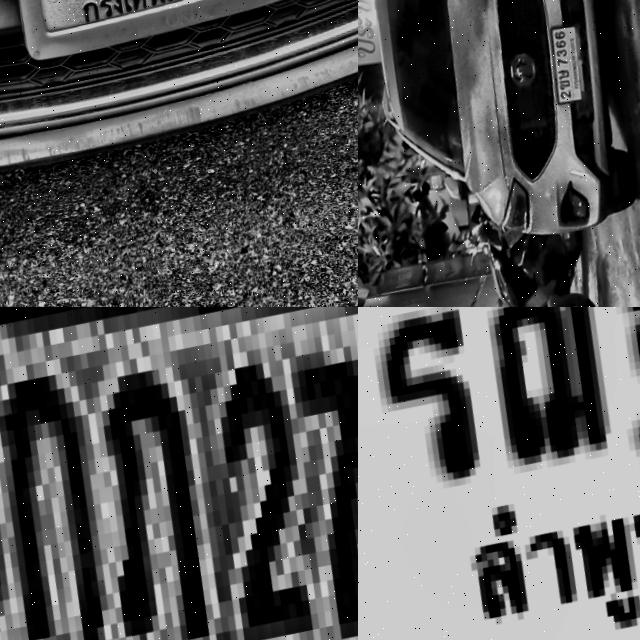license-plate: (0, 307, 358, 640), (358, 307, 640, 640), (0, 0, 336, 63), (522, 112, 594, 166)
